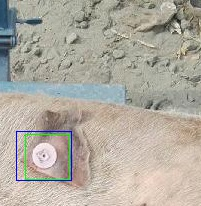text: (25, 134, 69, 179)
